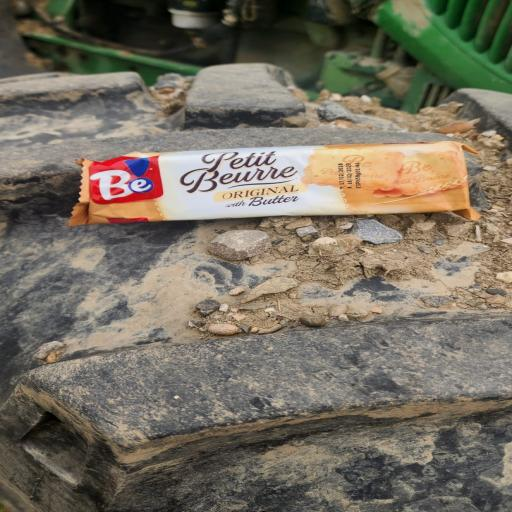petit_beurre: (23, 62, 503, 275)
